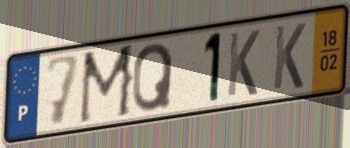1: (199, 28, 224, 107)
7: (44, 51, 81, 131)
K: (225, 27, 262, 100), (271, 21, 308, 93)
M: (76, 41, 137, 128)
Q: (130, 41, 176, 115)
